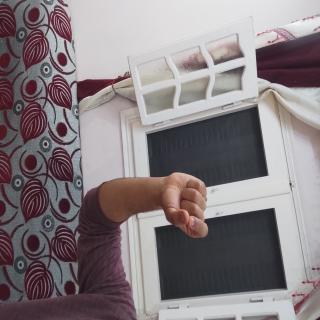FAA: (126, 143, 185, 221)
